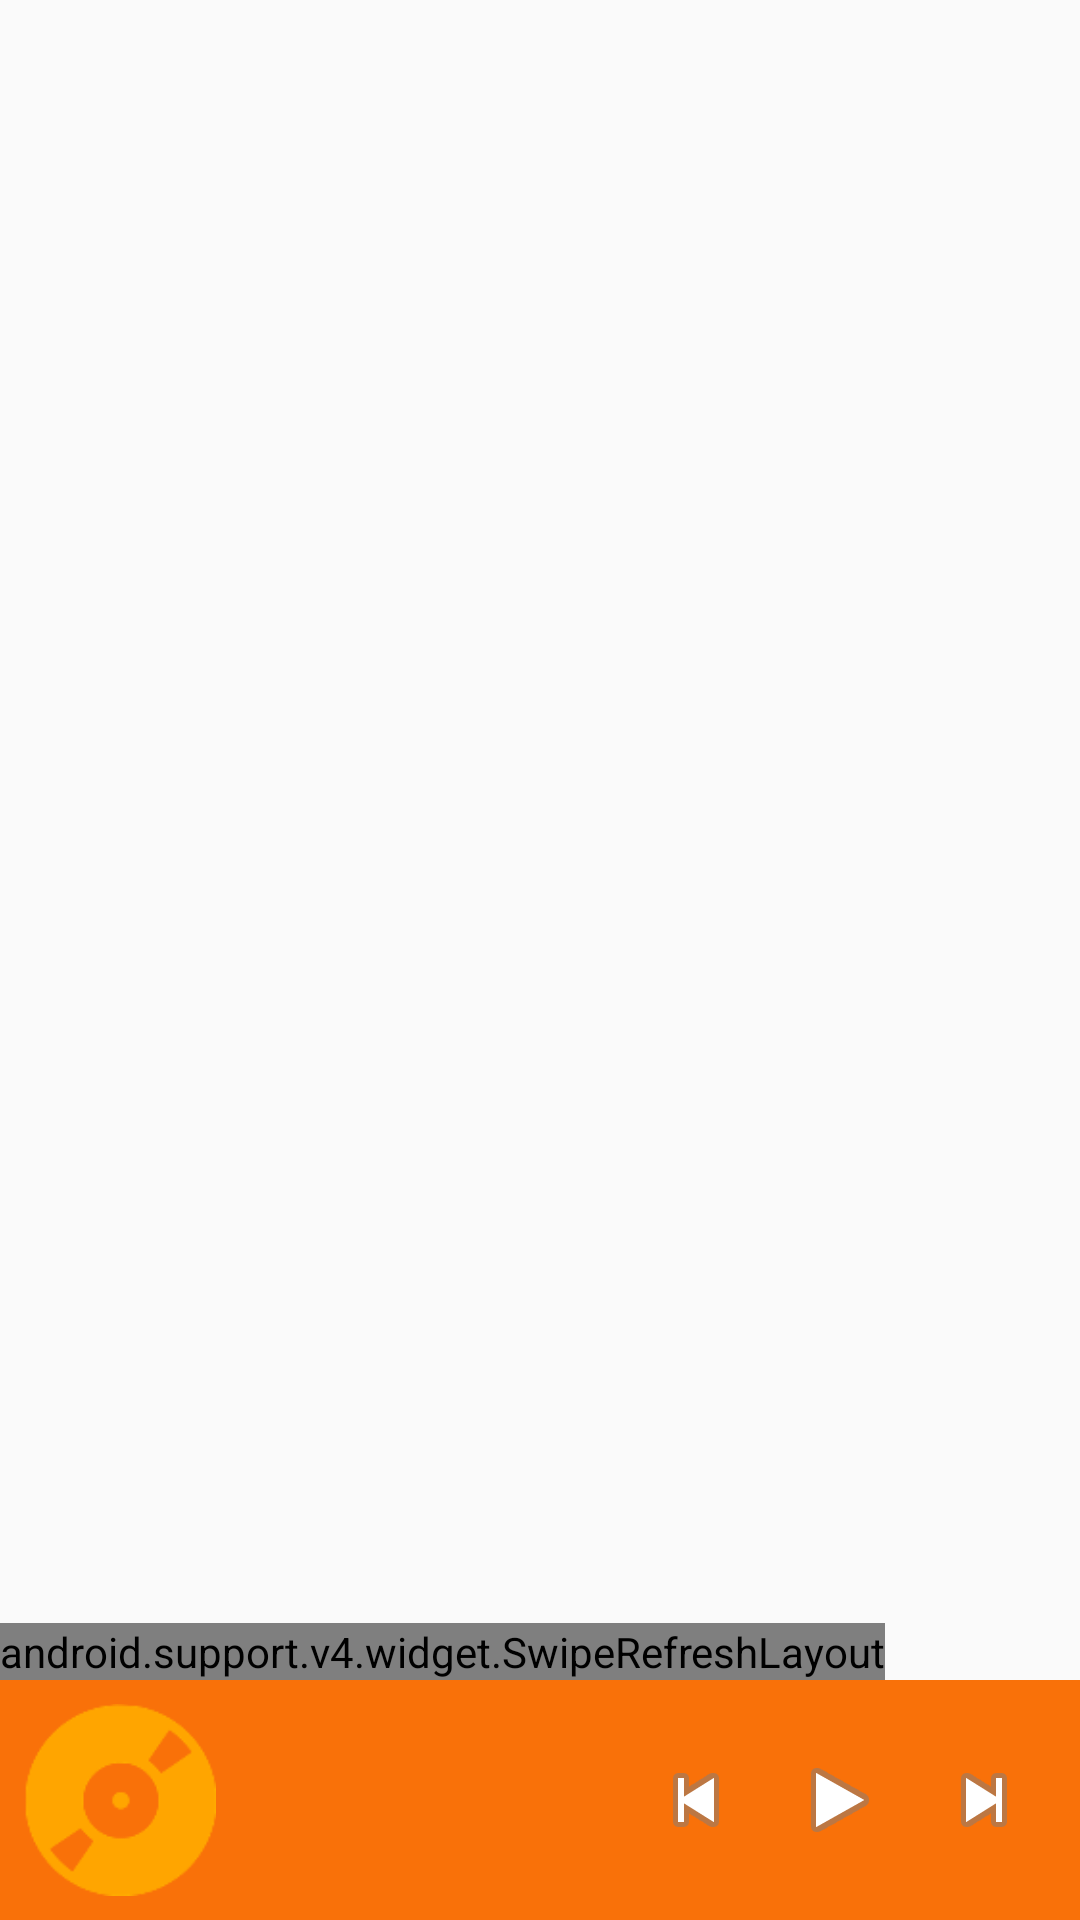

Named icons in this screenshot (1080px×1920px) and their centers, (x=x, y=y):
next: (x=984, y=1800)
play: (x=840, y=1800)
previous: (x=696, y=1800)
